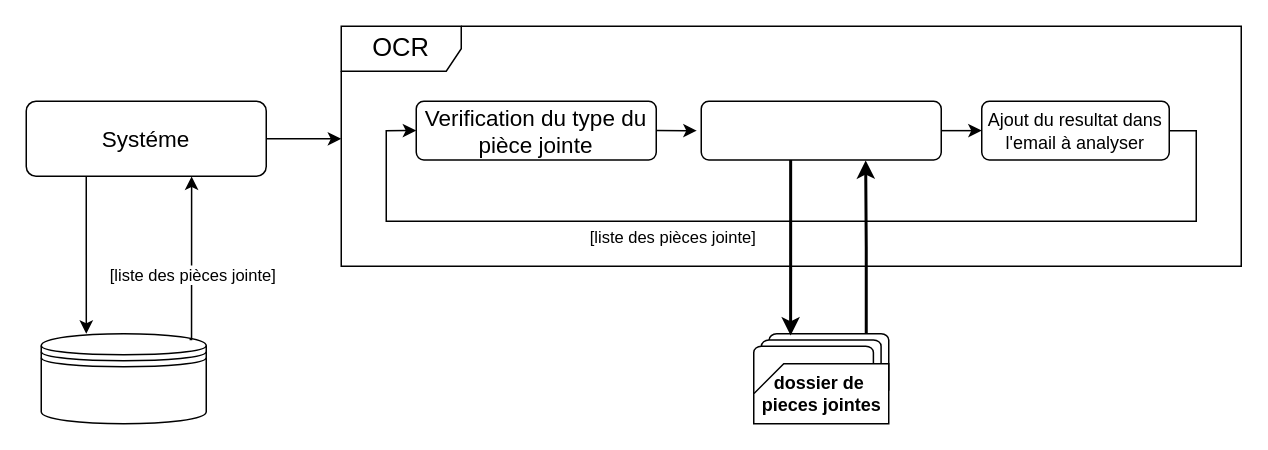
Some shapes in this 1268 by 450 pixel diagram are drawn without their labels. The shapes that lost their labels are listed below. From the top down, each one's centre as x and y in pixels, then its label:
(820,130): Analysation du pièce jointe
(123,378): base de donnée (excel)
